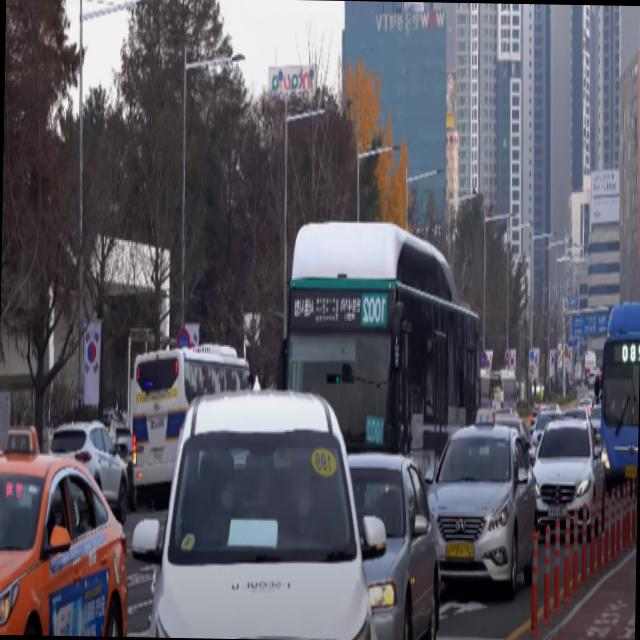bus-number: (361, 294, 386, 324), (620, 341, 640, 363)
